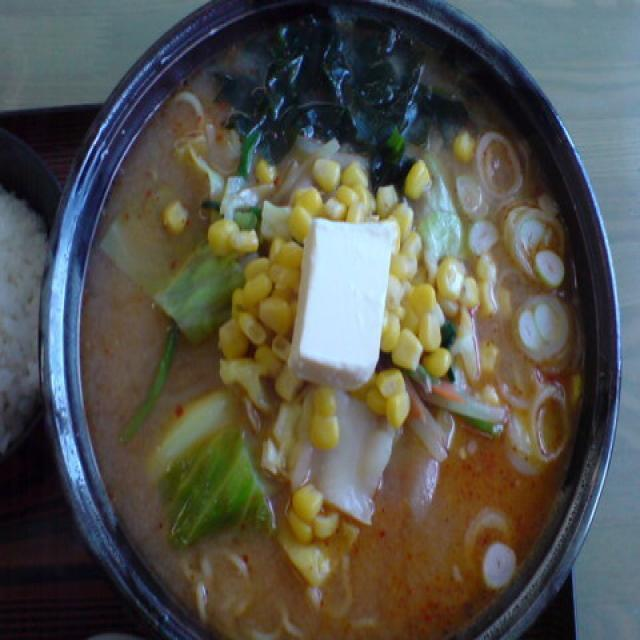面条主食: (39, 0, 562, 640)
